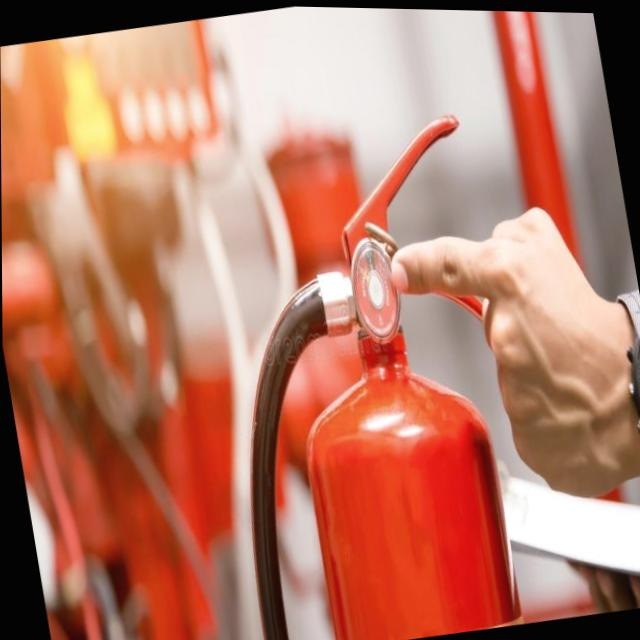FireExtinguisher: (176, 100, 555, 640)
